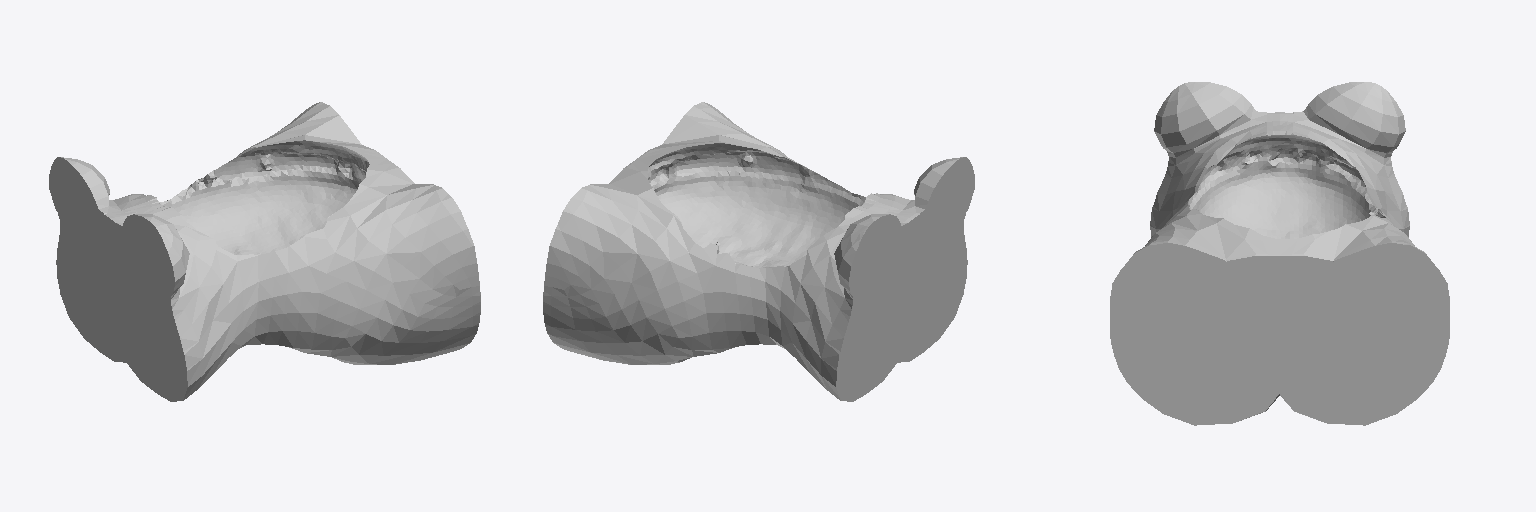
File: abdomen.obj
3 views of the same model, side by side, from view 1: azimuth 30°, elevation 25°; view 2: azimuth 150°, elevation 25°; view 3: azimuth 270°, elevation 25° (orthographic).
Parts seen in each view (by area): view 1: abdomen_original; view 2: abdomen_original; view 3: abdomen_original.
Part boxes in pixels (bbox=[...]): abdomen_original: bbox=[49, 102, 480, 401]; abdomen_original: bbox=[543, 102, 974, 401]; abdomen_original: bbox=[1110, 82, 1449, 425].
Bounding box in the file's own units: 16.92 × 11.09 × 16.81.